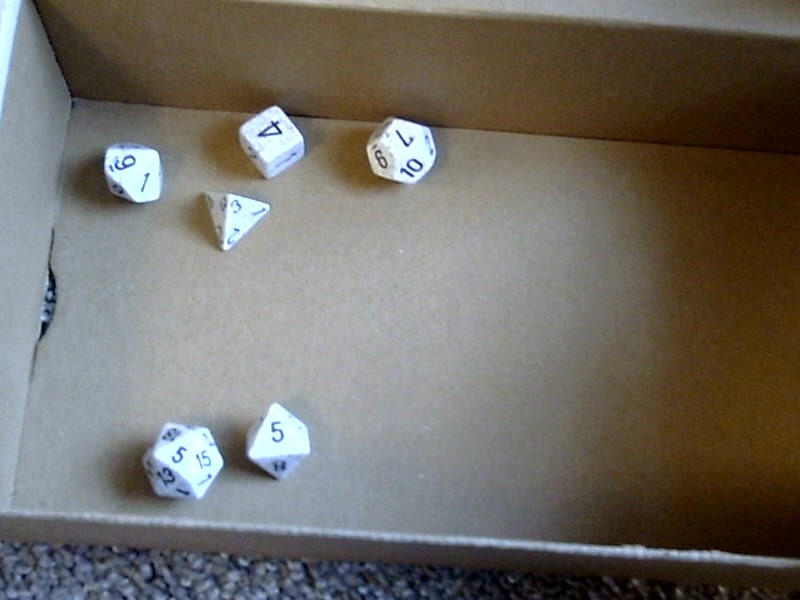d10 9: (94, 132, 168, 216)
d12 7: (358, 103, 443, 198)
d20 5: (136, 411, 226, 506)
d4 3: (195, 188, 273, 262)
d6 4: (230, 94, 318, 184)
d8 5: (238, 395, 315, 492)
